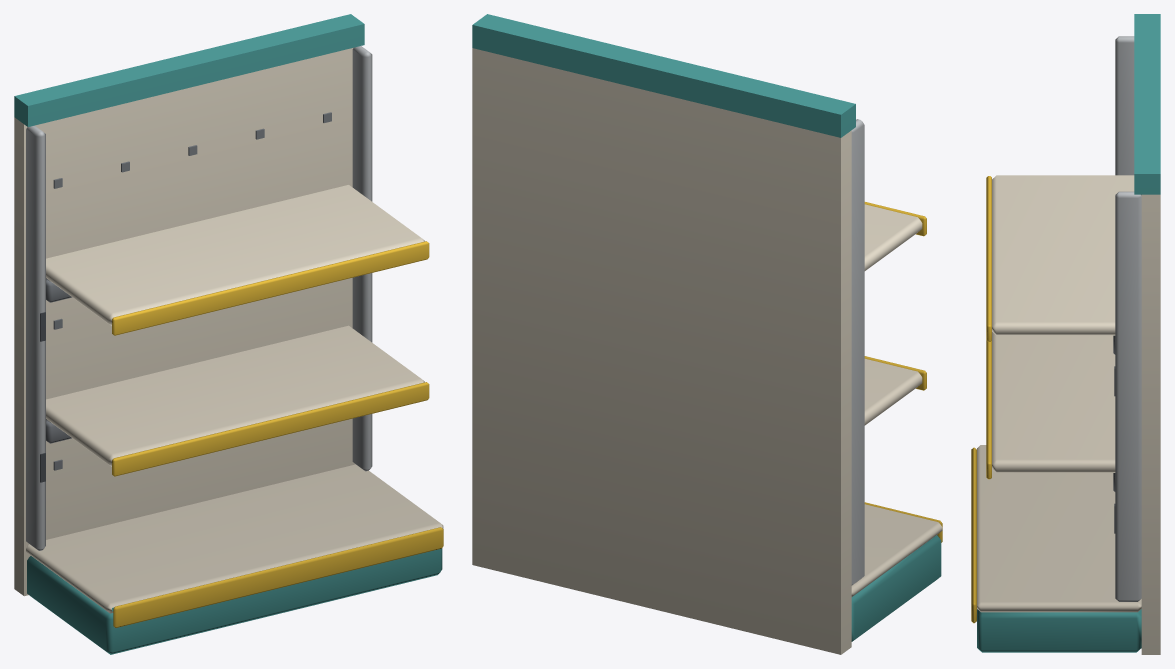
The model's file is Gondola_EndCap_Low_10.glb.
The picture shows the model from 3 angles, left to right: view 1: azimuth 30°, elevation 25°; view 2: azimuth 150°, elevation 25°; view 3: azimuth 270°, elevation 25°; orthographic projection. The views are drawn at different scales.
Visible parts, largest first — view 1: SM_Gondola_EndCap_Low_10; view 2: SM_Gondola_EndCap_Low_10; view 3: SM_Gondola_EndCap_Low_10.
Boxes of the visible parts, box(x1,y1,x2,y2) form: SM_Gondola_EndCap_Low_10: box(14, 14, 443, 654); SM_Gondola_EndCap_Low_10: box(472, 14, 942, 654); SM_Gondola_EndCap_Low_10: box(971, 14, 1160, 654).
Bounding box in the file's own units: 1 × 1.4 × 0.5.
Materials: 1 (1 with a texture image).
